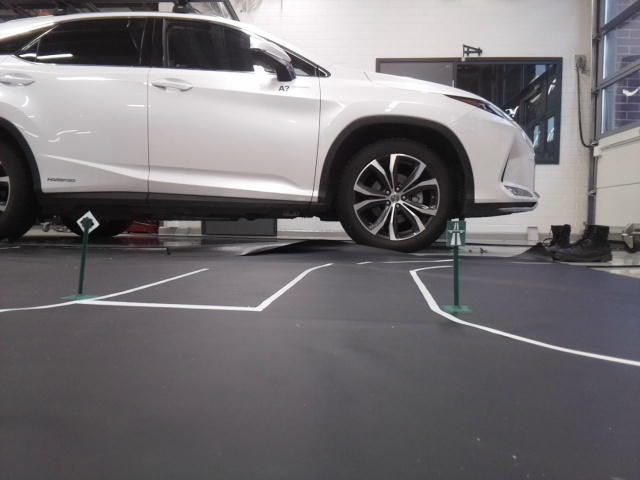HighwayEntrance: (448, 222, 464, 245)
